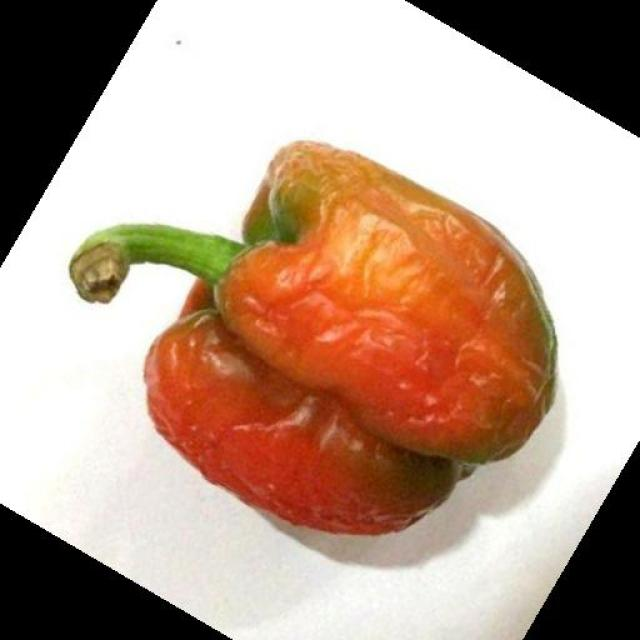Stale_Capsicum: (88, 138, 524, 550)
